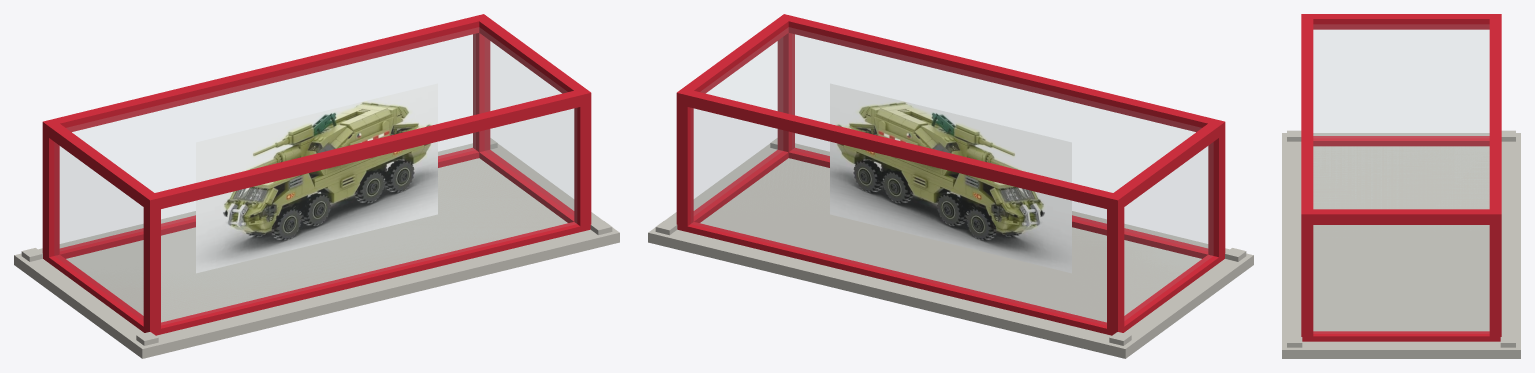
Rendered from dana-m2.glb.
The picture shows the model from 3 angles, left to right: view 1: azimuth 30°, elevation 25°; view 2: azimuth 150°, elevation 25°; view 3: azimuth 270°, elevation 25°; orthographic projection. The views are drawn at different scales.
Bounding box in the file's own units: 0.305 × 0.0895 × 0.142.
4 materials, 1 textured.
